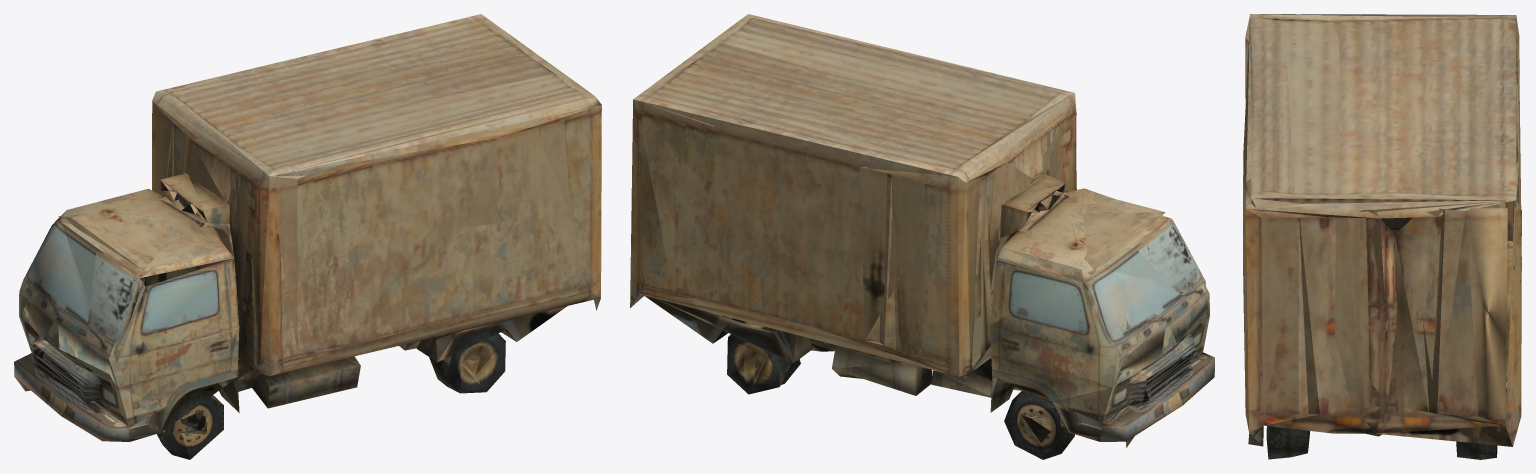
The model's file is car_delivery_light.glb.
3 renders of one model, left to right at view 1: azimuth 30°, elevation 25°; view 2: azimuth 150°, elevation 25°; view 3: azimuth 270°, elevation 25°, orthographic. The views are drawn at different scales.
Parts seen in each view (by area): view 1: output_unwrapped; view 2: output_unwrapped; view 3: output_unwrapped.
Boxes of the visible parts, x1,y1,x2,y2 form: output_unwrapped: (14, 14, 601, 459); output_unwrapped: (630, 14, 1214, 459); output_unwrapped: (1243, 14, 1521, 459).
Size of the model in its own units: 4.6 by 2.5 by 1.96.
Materials: 1 (1 with a texture image).
